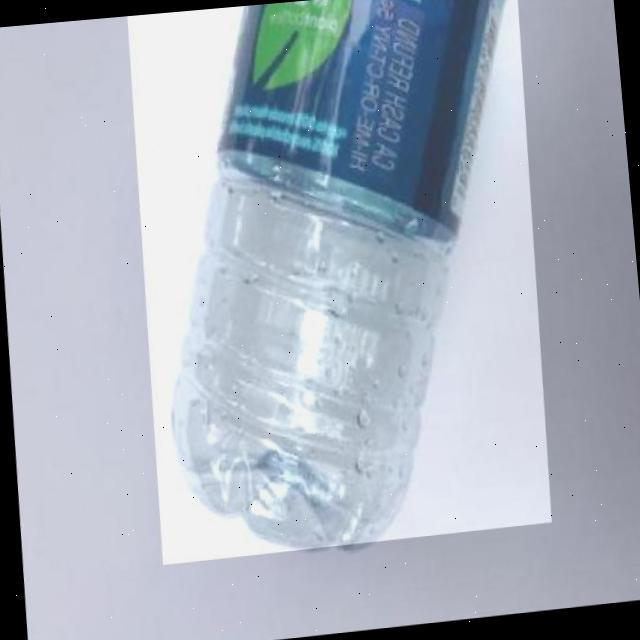bottle: (114, 0, 561, 566)
label: (208, 0, 537, 219)
